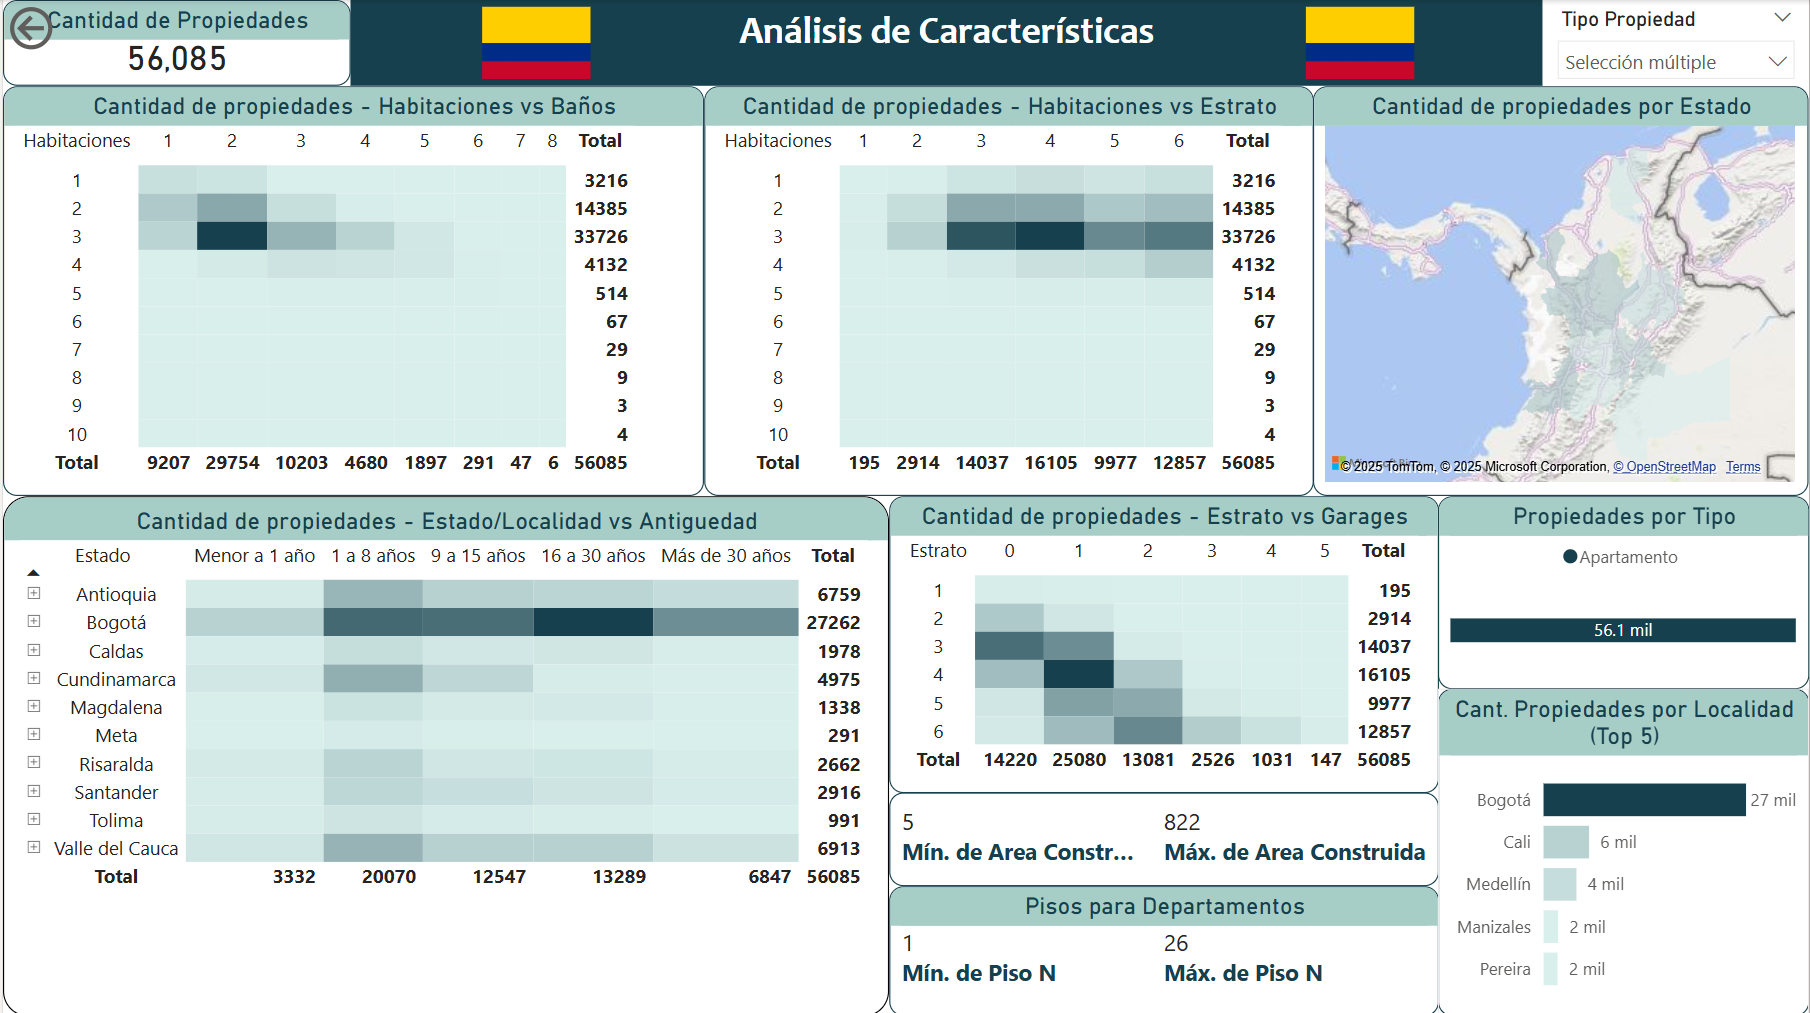

This screenshot's page, from the dashboard's own definition file:
{"tool":"powerbi","page":{"name":"Análisis de Características","canvas":[1280,720],"ordinal":0},"visuals":[{"type":"pivotTable","title":"Cantidad de propiedades - Habitaciones vs Baños","fields":{"Columns":["Props.Banos"],"Values":["CountNonNull(Props.Tipo Propiedad)"],"Rows":["Props.Habitaciones"]},"box":[0,61.1,497,290.6],"z":0},{"type":"pivotTable","title":"Cantidad de propiedades - Estrato vs Garages","fields":{"Columns":["Props.Garages"],"Values":["CountNonNull(Props.Tipo Propiedad)"],"Rows":["Props.Estrato"]},"box":[628.2,351.5,389.2,210.2],"z":1000},{"type":"slicer","fields":{"Values":["Props.Tipo Propiedad"]},"box":[1091.5,0,188.7,61.1],"z":2000},{"type":"pivotTable","title":"Cantidad de propiedades - Estado/Localidad vs Antiguedad","fields":{"Values":["CountNonNull(Props.Tipo Propiedad)"],"Rows":["Props.Estado","Props.Localidad"],"Columns":["Antiguedad Exp.Antiguedad"]},"box":[0,351.5,628.2,368.7],"z":3000},{"type":"card","title":"Cantidad de Propiedades","fields":{"Values":["CountNonNull(Props.Tipo Propiedad)"]},"box":[0,0,246.3,61.1],"z":4000},{"type":"textbox","box":[246.3,0,845.2,61.1],"z":5000},{"type":"pivotTable","title":"Cantidad de propiedades - Habitaciones vs Estrato","fields":{"Values":["CountNonNull(Props.Tipo Propiedad)"],"Rows":["Props.Habitaciones"],"Columns":["Props.Estrato"]},"box":[496.8,60.8,431.9,290.7],"z":6000},{"type":"image","box":[892.6,0,138,60.8],"z":7000},{"type":"image","box":[308.8,0,137.1,60.8],"z":8000},{"type":"filledMap","title":"Cantidad de propiedades por Estado","fields":{"Category":["Props.Estado"]},"box":[928.7,60.8,351.5,290.7],"z":9000},{"type":"actionButton","box":[0,0,100,40],"z":10000},{"type":"hundredPercentStackedBarChart","title":"Propiedades por Tipo","fields":{"Y":["CountNonNull(Props.Tipo Propiedad)"],"Series":["Props.Tipo Propiedad"]},"box":[1017.1,351.7,263.1,136.4],"z":11000},{"type":"multiRowCard","title":"Propiedades por Tipo","fields":{"Values":["Min(Props.Area Construida)","Max(Props.Area Construida)1"]},"box":[628.2,561.7,389.2,66.5],"z":12000},{"type":"multiRowCard","title":"Pisos para Departamentos","fields":{"Values":["Min(Props.Piso N)","Max(Props.Piso N)1"]},"box":[628.2,628.2,389.2,92],"z":13000},{"type":"barChart","title":"Cant. Propiedades por Localidad (Top 5)","fields":{"Y":["CountNonNull(Props.Tipo Propiedad)"],"Category":["Props.Localidad"]},"box":[1017.1,488.2,263.1,232.1],"z":14000}]}

Visuals, with their boxes in screenshot pixels (x1, y1, x2, y2), scaled from the page's 1280x720 canvas onto the 1810x1013 screenshot:
"Cantidad de propiedades - Habitaciones vs Baños" pivotTable: <box>0,86,703,495</box>
"Cantidad de propiedades - Estrato vs Garages" pivotTable: <box>888,495,1439,790</box>
slicer - Props.Tipo Propiedad: <box>1543,0,1809,86</box>
"Cantidad de propiedades - Estado/Localidad vs Antiguedad" pivotTable: <box>0,495,888,1012</box>
"Cantidad de Propiedades" card: <box>0,0,348,86</box>
textbox: <box>348,0,1543,86</box>
"Cantidad de propiedades - Habitaciones vs Estrato" pivotTable: <box>703,86,1313,495</box>
image: <box>1262,0,1457,86</box>
image: <box>437,0,631,86</box>
"Cantidad de propiedades por Estado" filledMap: <box>1313,86,1809,495</box>
actionButton: <box>0,0,141,56</box>
"Propiedades por Tipo" hundredPercentStackedBarChart: <box>1438,495,1809,687</box>
"Propiedades por Tipo" multiRowCard: <box>888,790,1439,884</box>
"Pisos para Departamentos" multiRowCard: <box>888,884,1439,1012</box>
"Cant. Propiedades por Localidad (Top 5)" barChart: <box>1438,687,1809,1012</box>
